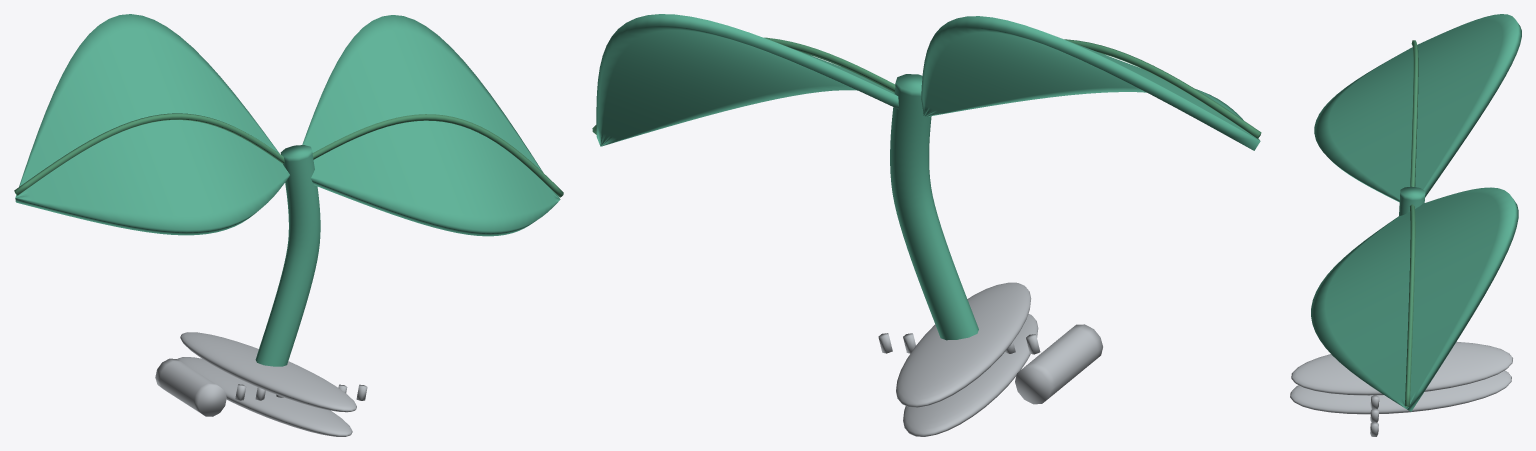
Rendered from Masculine-taper-pashmina249-sprout.glb.
3 renders of one model, left to right at view 1: azimuth 30°, elevation 25°; view 2: azimuth 150°, elevation 25°; view 3: azimuth 270°, elevation 25°, orthographic. The views are drawn at different scales.
Visible parts, largest first — view 1: 226 extra / Accessory / mint226, 226 extra / Sprout / clip silver235, 226 extra / Sprout / leaf vein235; view 2: 226 extra / Accessory / mint226, 226 extra / Sprout / clip silver235, 226 extra / Sprout / leaf vein235; view 3: 226 extra / Accessory / mint226, 226 extra / Sprout / clip silver235, 226 extra / Sprout / leaf vein235.
Part boxes in pixels (x1,y1,x2,y2): 226 extra / Accessory / mint226: (15,14,560,366); 226 extra / Sprout / clip silver235: (155,332,367,436); 226 extra / Sprout / leaf vein235: (14,113,563,197); 226 extra / Accessory / mint226: (596,14,1260,340); 226 extra / Sprout / clip silver235: (878,282,1102,436); 226 extra / Sprout / leaf vein235: (592,37,1261,138); 226 extra / Accessory / mint226: (1311,14,1521,411); 226 extra / Sprout / clip silver235: (1290,341,1512,436); 226 extra / Sprout / leaf vein235: (1405,40,1418,406).
Bounding box in the file's own units: 0.2647 × 0.171 × 0.1062.
